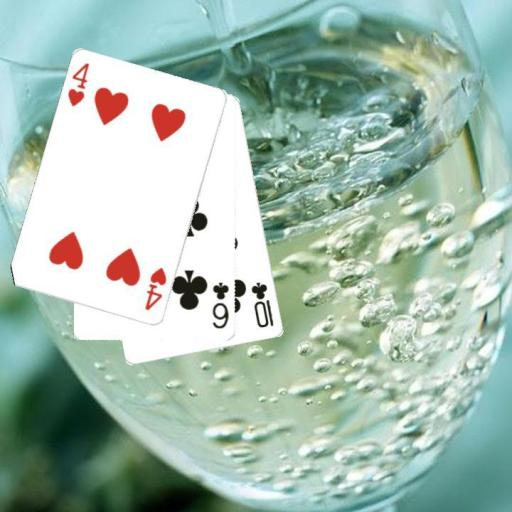10C: (248, 279, 276, 330)
4H: (65, 60, 91, 109), (142, 265, 169, 312)
6C: (210, 280, 231, 331)
